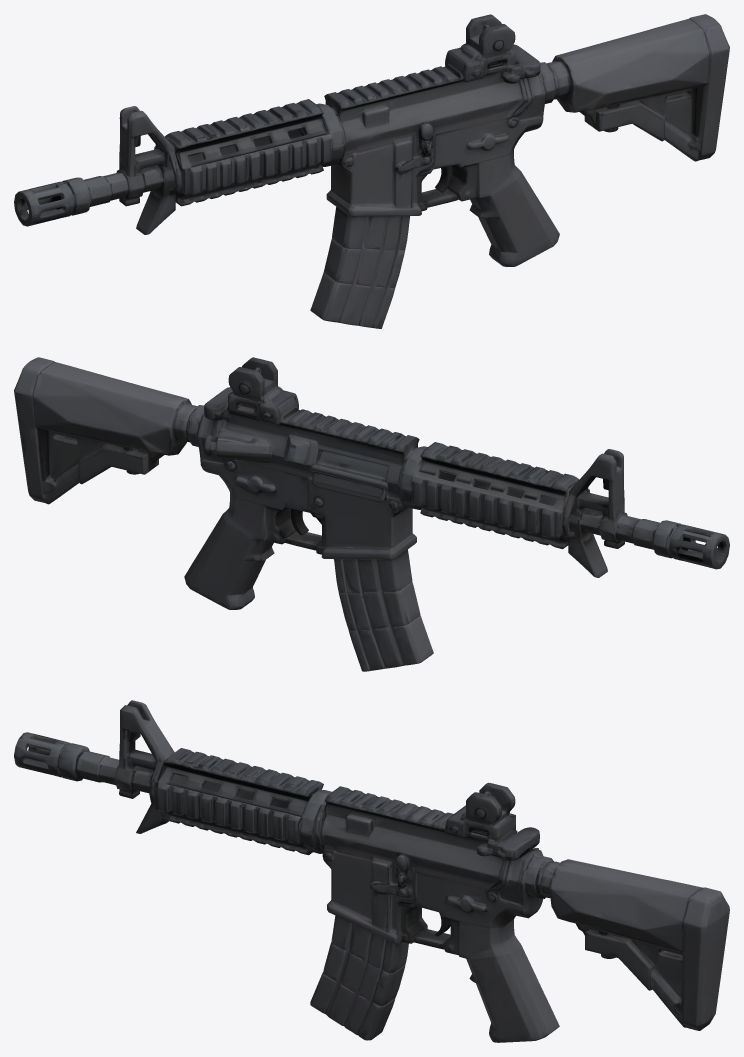
3 views of the same model, one above another, from view 1: azimuth 30°, elevation 25°; view 2: azimuth 150°, elevation 25°; view 3: azimuth 330°, elevation 25° (orthographic).
Visible parts, largest first — view 1: node_0; view 2: node_0; view 3: node_0.
Part boxes in pixels (bbox=[...]): node_0: bbox=[14, 14, 729, 328]; node_0: bbox=[14, 357, 729, 671]; node_0: bbox=[14, 700, 729, 1042].
Size of the model in its own units: 1.17 by 0.4401 by 0.1205.
Materials: 1 (1 with a texture image).
